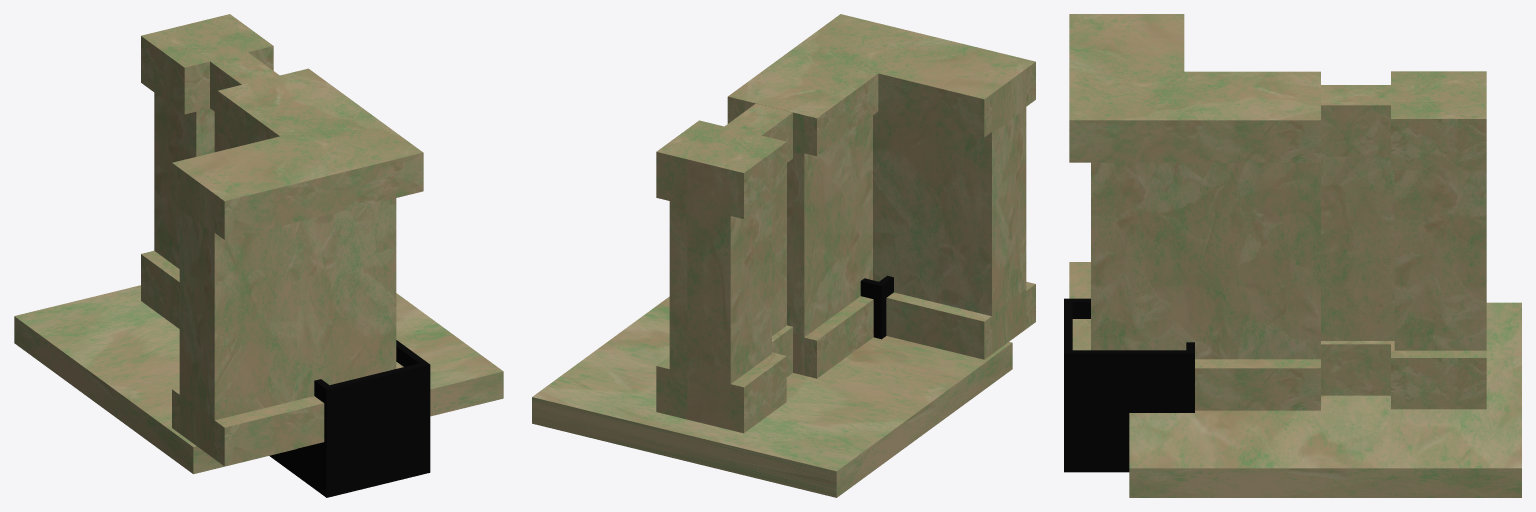
File: ModulsMinatour.fbx
3 views of the same model, side by side, from view 1: azimuth 30°, elevation 25°; view 2: azimuth 150°, elevation 25°; view 3: azimuth 270°, elevation 25° (orthographic). The views are drawn at different scales.
Parts seen in each view (by area): view 1: corner, ceeling, BirdWall, void; view 2: corner, ceeling, BirdWall, void; view 3: corner, BirdWall, ceeling, void, wall.
Boxes of the visible parts, <box> form: corner: <box>172,68,423,466</box>; ceeling: <box>14,285,503,474</box>; BirdWall: <box>141,14,279,328</box>; void: <box>269,340,430,497</box>; corner: <box>727,14,1035,378</box>; ceeling: <box>532,296,1012,497</box>; BirdWall: <box>656,103,792,433</box>; void: <box>860,275,893,339</box>; corner: <box>1069,14,1320,410</box>; BirdWall: <box>1321,71,1486,409</box>; ceeling: <box>1129,302,1521,497</box>; void: <box>1064,298,1194,472</box>; wall: <box>1321,156,1390,340</box>.
Size of the model in its own units: 600 by 590 by 700.
